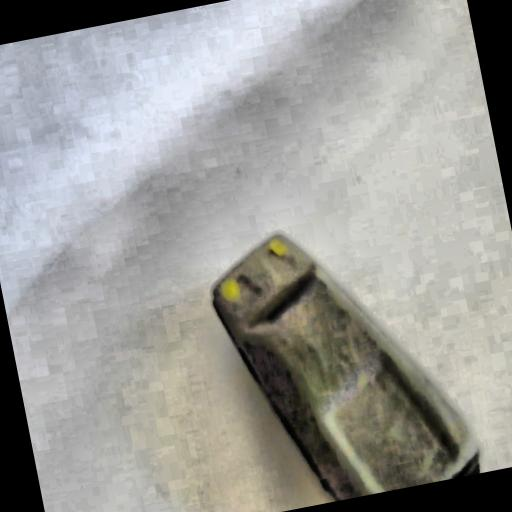normal_car: (197, 199, 486, 512)
